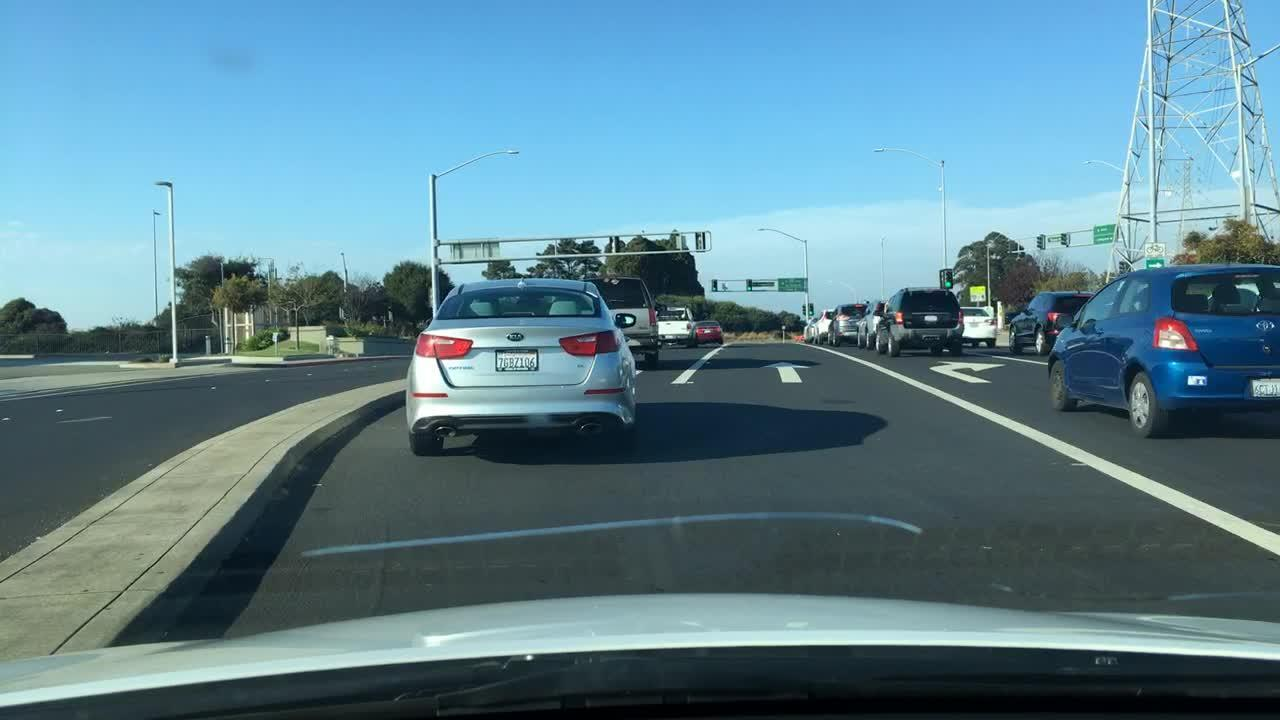kia: (504, 330, 525, 345)
